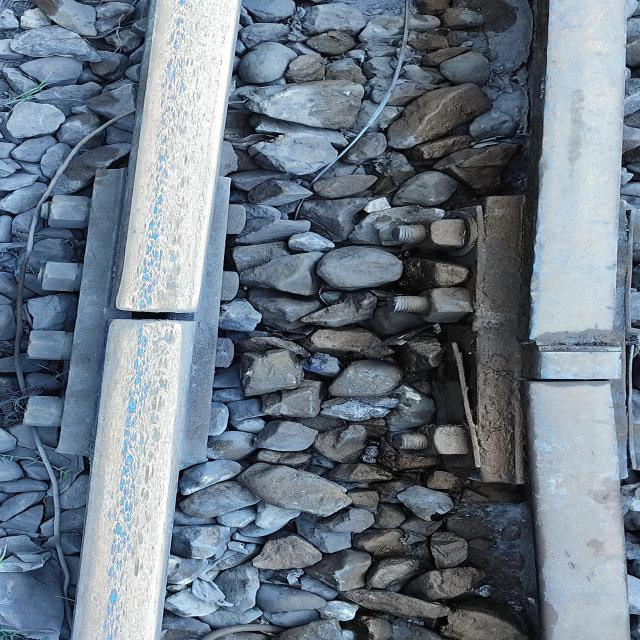Defective Joint: (473, 195, 620, 496)
Good Joint: (26, 168, 229, 470)
